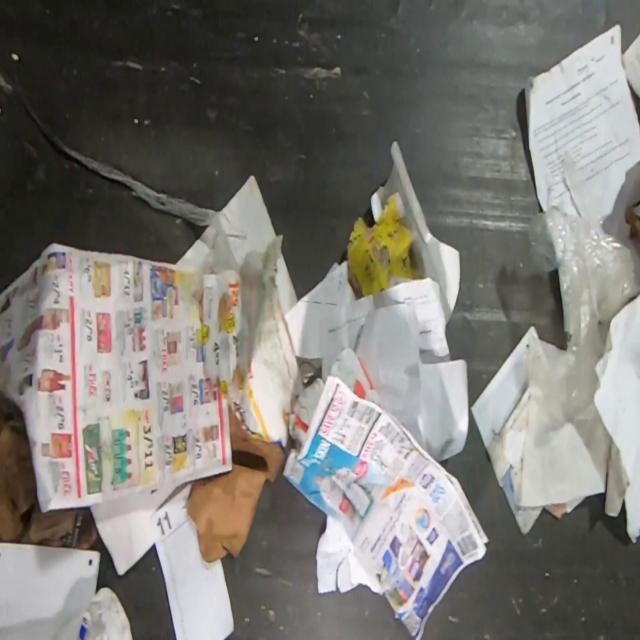cardboard: (187, 402, 286, 563), (0, 391, 98, 548), (347, 190, 426, 299)
soft_plastic: (59, 140, 284, 385), (502, 148, 640, 514)
